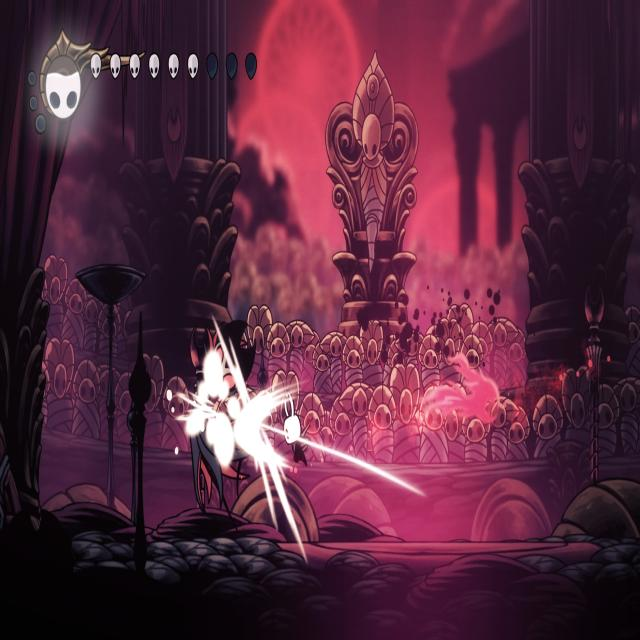Fire Bat: (432, 347, 502, 427)
Grimm: (183, 312, 259, 540)
Player: (274, 384, 314, 469)
